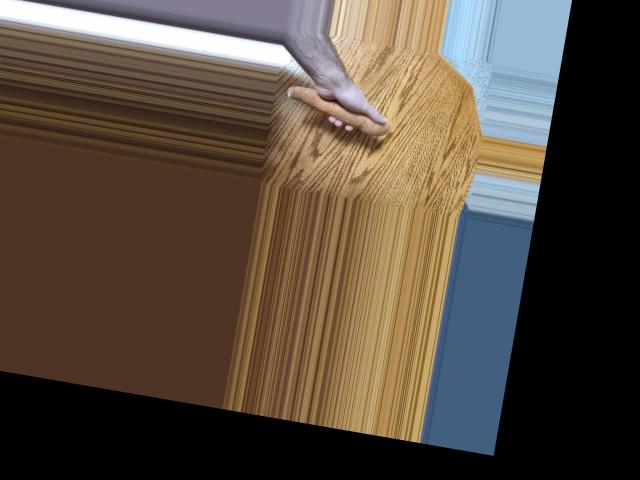sweet_potato: (281, 82, 393, 138)
